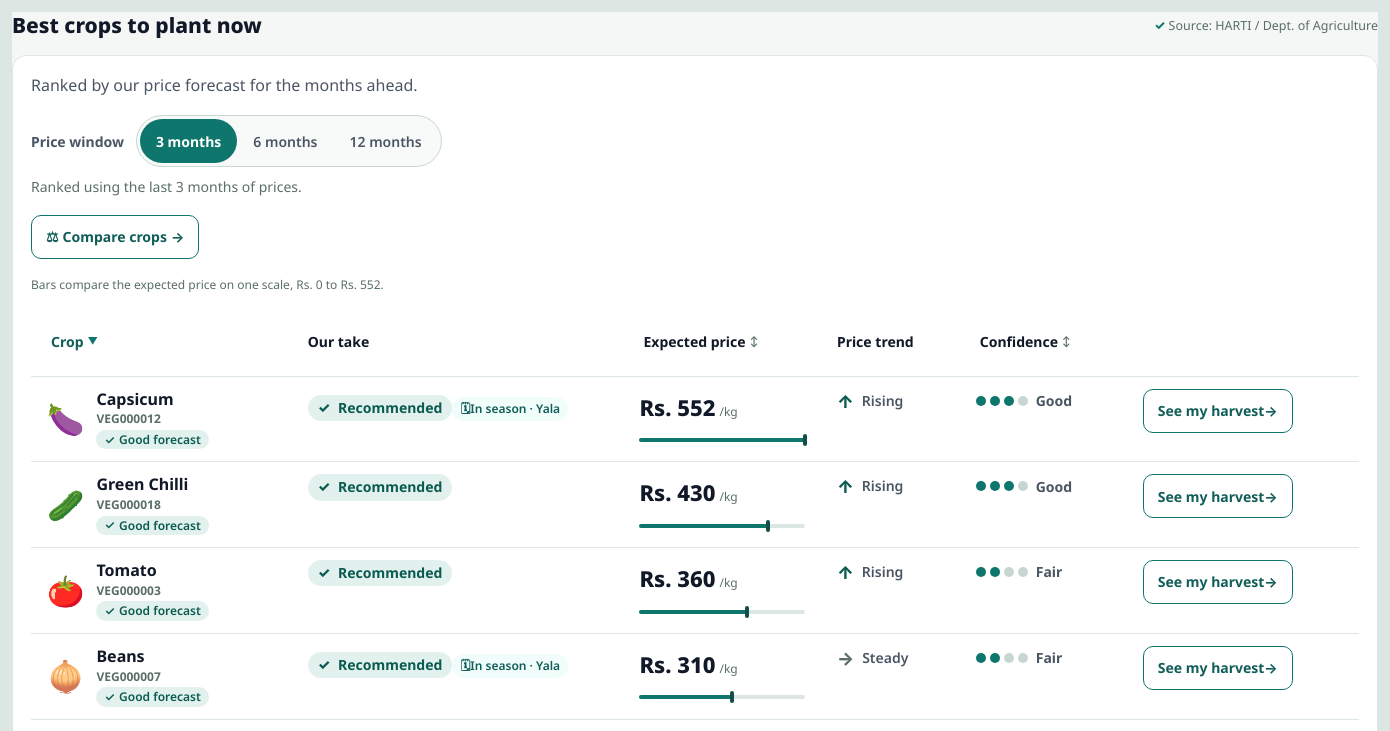
Test: BestCropsPage (FE-7) › refetches with the chosen lookback window
The width and height of the screenshot is (1390, 731).
Expected: the text "Capsicum" is shown, [96, 388, 173, 410]
Click the button "6 months" at [285, 142], box [237, 120, 334, 164]
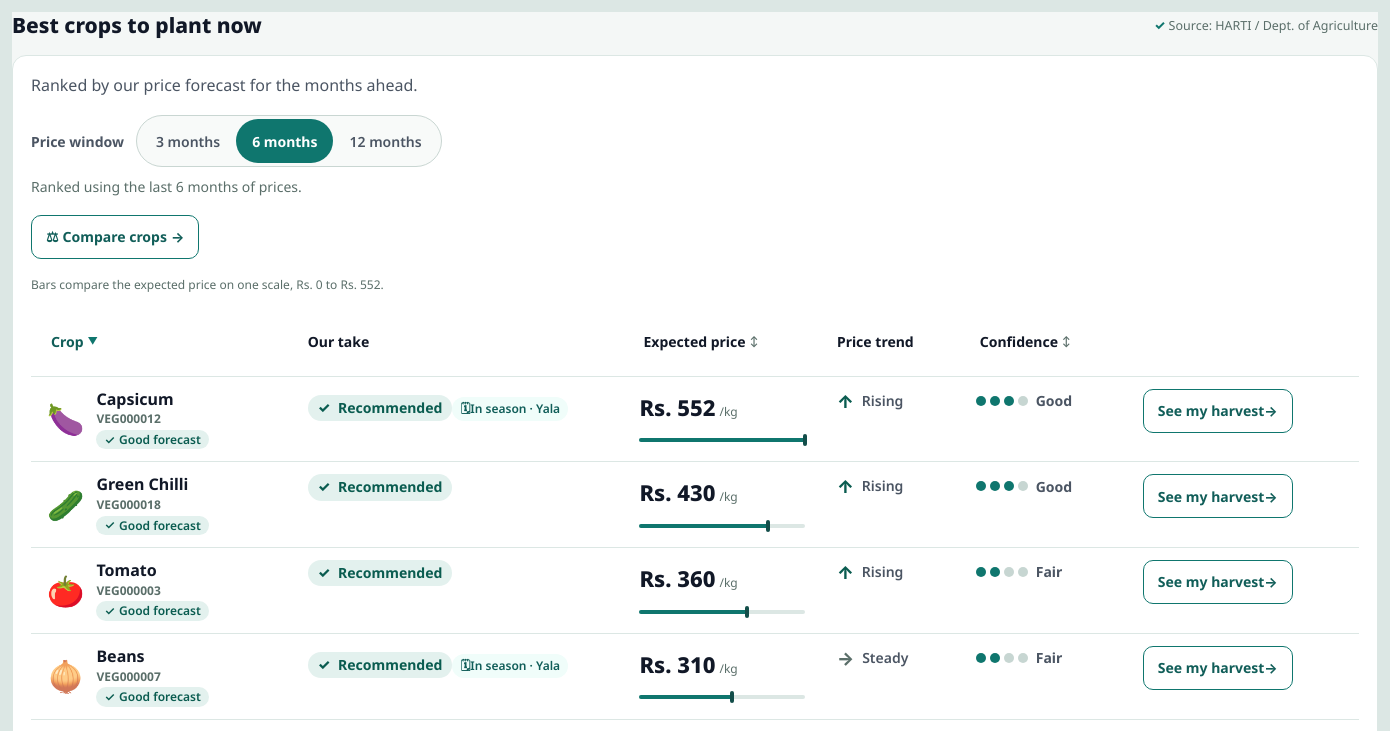
Now the text "Ranked using the last 6 months of prices." is shown, box [31, 178, 302, 196]
